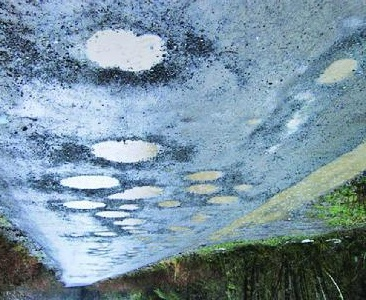pothole: (83, 25, 179, 87), (88, 138, 165, 166), (315, 57, 361, 88), (55, 176, 122, 192), (181, 169, 227, 184), (62, 198, 108, 211), (93, 208, 133, 219), (186, 183, 219, 196), (207, 195, 241, 206), (112, 217, 148, 226), (155, 200, 183, 210), (230, 184, 254, 194), (92, 229, 117, 238)
